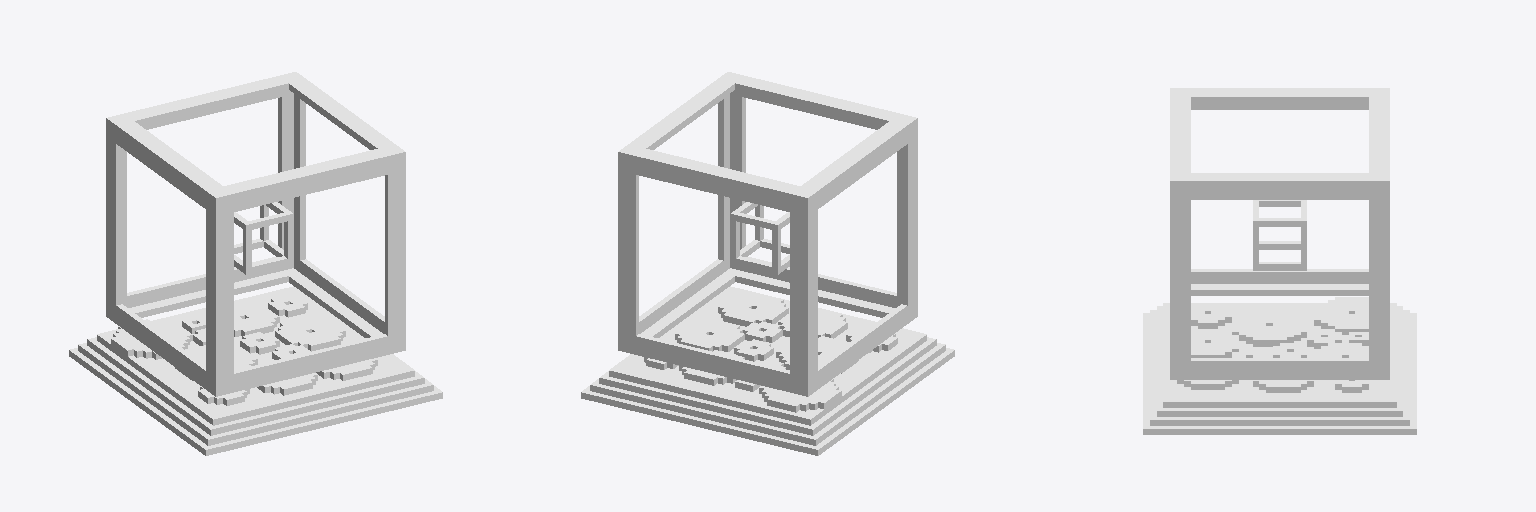
The model's file is generator_core.obj.
3 views of the same model, side by side, from view 1: azimuth 30°, elevation 25°; view 2: azimuth 150°, elevation 25°; view 3: azimuth 270°, elevation 25° (orthographic).
Parts seen in each view (by area): view 1: generator_core; view 2: generator_core; view 3: generator_core.
Boxes of the visible parts, <box> form: generator_core: <box>69,72,442,455</box>; generator_core: <box>581,72,954,455</box>; generator_core: <box>1143,88,1416,434</box>.
Size of the model in its own units: 80 by 78 by 80.